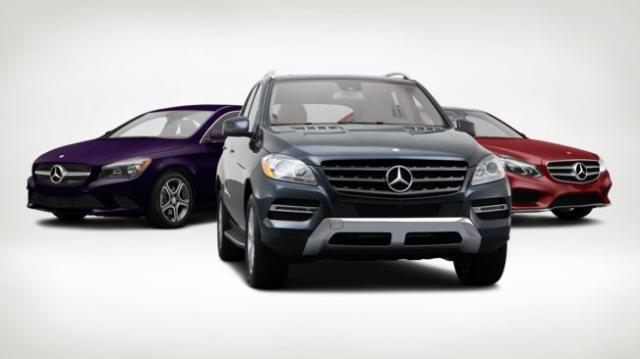benz: (213, 70, 512, 290)
